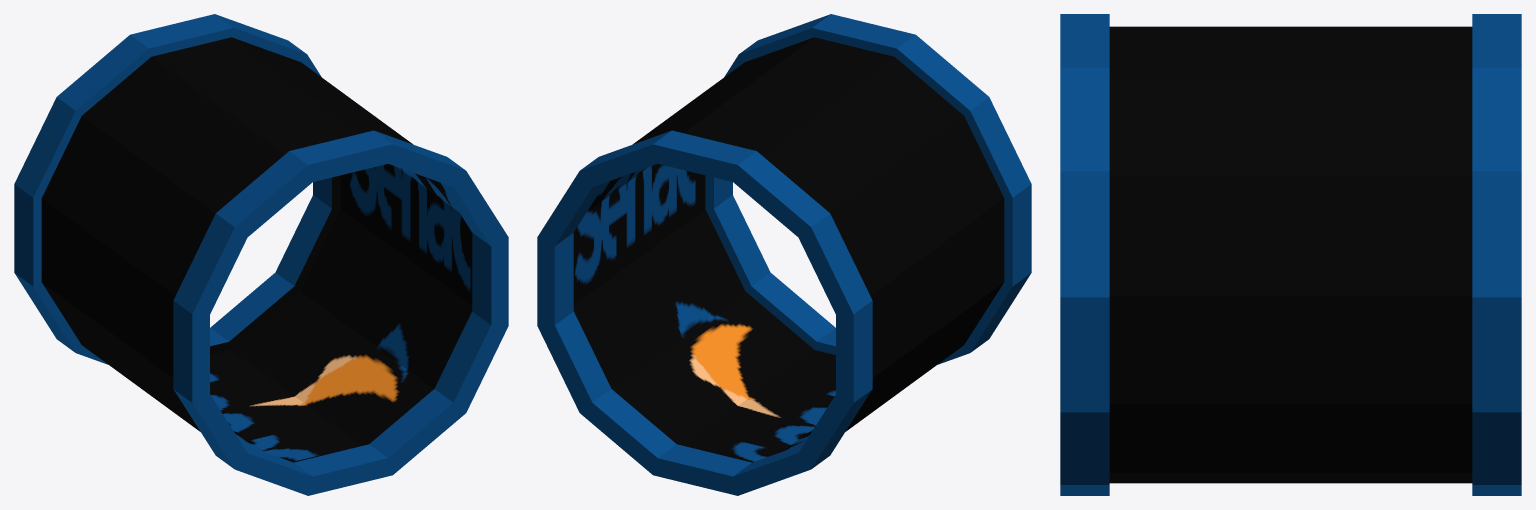
The model's file is Light Tunnel.fbx.
3 views of the same model, side by side, from view 1: azimuth 30°, elevation 25°; view 2: azimuth 150°, elevation 25°; view 3: azimuth 270°, elevation 25° (orthographic). The views are drawn at different scales.
Visible parts, largest first — view 1: tube; view 2: tube; view 3: tube.
Part boxes in pixels (bbox=[...]): tube: bbox=[14, 14, 508, 495]; tube: bbox=[537, 14, 1031, 495]; tube: bbox=[1060, 14, 1521, 495].
Bounding box in the file's own units: 660 × 660 × 644.
Materials: 1 (1 with a texture image).
